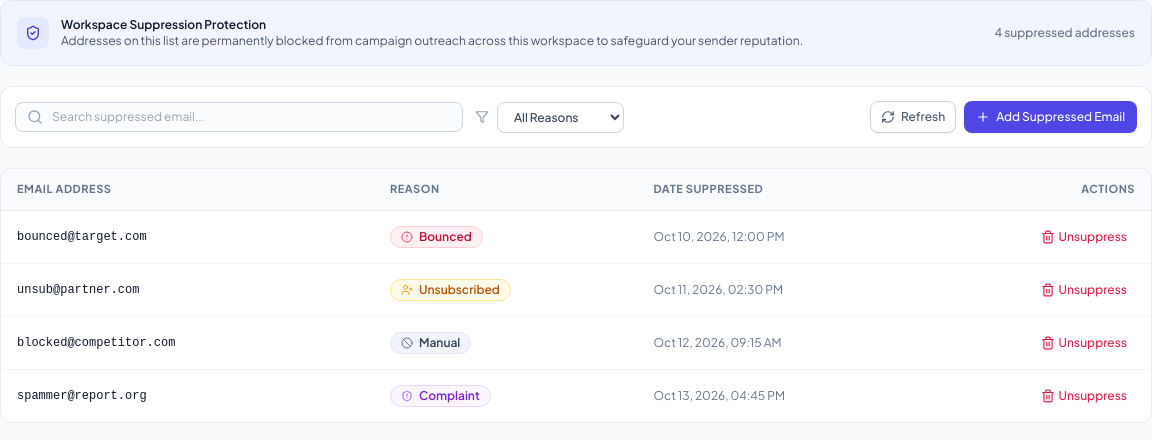
Test: SuppressionListPanel Component › filters suppression records by search input
This screenshot has width=1152, height=440.
Expected: the text "bounced@target.com" is shown, [17, 228, 147, 244]
In the field labelled "Search suppressed email...": [239, 117] box [15, 102, 463, 132], type "partner"
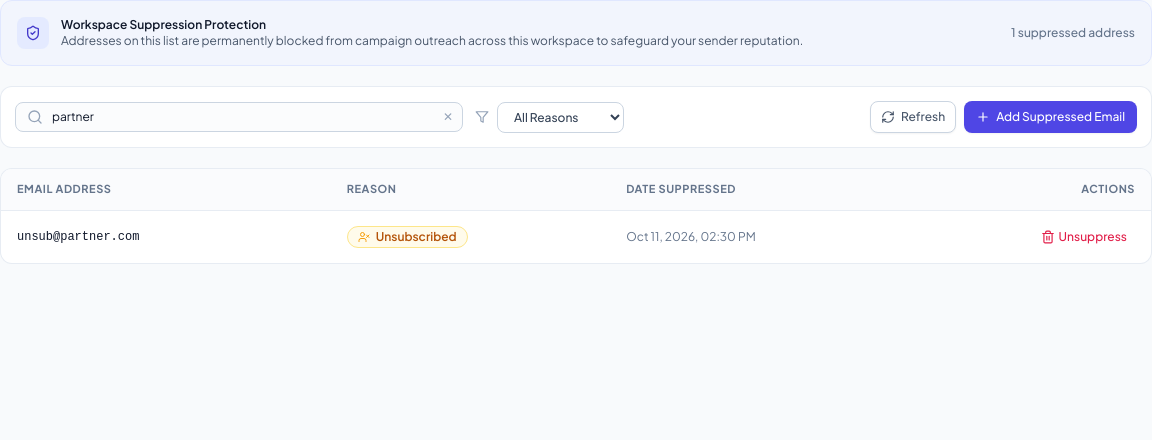
Expected: the text "unsub@partner.com" is shown, [17, 228, 139, 244]
Now the text "bounced@target.com" is gone
